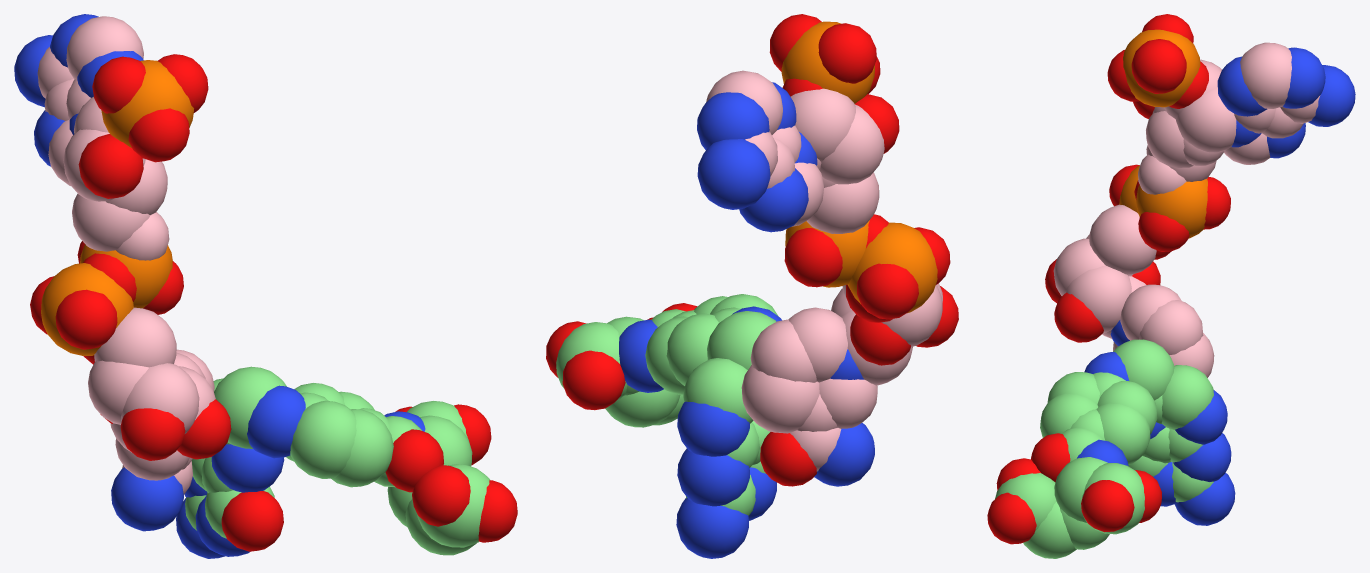
Rendered from Folate+NADPH.dae.
3 renders of one model, left to right at view 1: azimuth 30°, elevation 25°; view 2: azimuth 150°, elevation 25°; view 3: azimuth 270°, elevation 25°, orthographic. The views are drawn at different scales.
Parts seen in each view (by area): view 1: subnode_16, subnode_72, subnode_59, subnode_55, subnode_40, subnode_76, subnode_62, subnode_13, subnode_5, subnode_57, subnode_15, subnode_12 (+37 smaller); view 2: subnode_49, subnode_73, subnode_55, subnode_2, subnode_0, subnode_41, subnode_10, subnode_39, subnode_30, subnode_50, subnode_36, subnode_75 (+38 smaller); view 3: subnode_59, subnode_51, subnode_43, subnode_64, subnode_32, subnode_9, subnode_77, subnode_74, subnode_76, subnode_12, subnode_31, subnode_19 (+47 smaller).
Boxes of the visible parts, x1=… form: subnode_16: x1=290, y1=400, x2=356, y2=478; subnode_72: x1=111, y1=467, x2=183, y2=531; subnode_59: x1=94, y1=307, x2=176, y2=367; subnode_55: x1=41, y1=263, x2=133, y2=355; subnode_40: x1=78, y1=134, x2=143, y2=198; subnode_76: x1=101, y1=60, x2=193, y2=147; subnode_62: x1=121, y1=363, x2=199, y2=433; subnode_13: x1=247, y1=385, x2=305, y2=458; subnode_5: x1=221, y1=491, x2=283, y2=551; subnode_57: x1=55, y1=289, x2=117, y2=349; subnode_15: x1=331, y1=409, x2=393, y2=487; subnode_12: x1=214, y1=366, x2=286, y2=448; subnode_49: x1=697, y1=139, x2=770, y2=209; subnode_73: x1=741, y1=365, x2=819, y2=433; subnode_55: x1=847, y1=222, x2=937, y2=313; subnode_2: x1=676, y1=498, x2=748, y2=558; subnode_0: x1=677, y1=448, x2=749, y2=506; subnode_41: x1=790, y1=88, x2=855, y2=161; subnode_10: x1=677, y1=401, x2=749, y2=456; subnode_39: x1=820, y1=104, x2=884, y2=184; subnode_30: x1=562, y1=350, x2=625, y2=410; subnode_50: x1=697, y1=92, x2=769, y2=149; subnode_36: x1=806, y1=172, x2=879, y2=233; subnode_75: x1=789, y1=307, x2=847, y2=382; subnode_59: x1=1089, y1=204, x2=1156, y2=274; subnode_51: x1=1240, y1=42, x2=1291, y2=108; subnode_43: x1=1176, y1=88, x2=1236, y2=152; subnode_64: x1=1065, y1=265, x2=1131, y2=333; subnode_32: x1=1136, y1=178, x2=1207, y2=238; subnode_9: x1=1162, y1=365, x2=1213, y2=429; subnode_77: x1=1131, y1=39, x2=1186, y2=93; subnode_74: x1=1139, y1=300, x2=1203, y2=354; subnode_76: x1=1123, y1=29, x2=1200, y2=107; subnode_12: x1=1113, y1=339, x2=1174, y2=400; subnode_31: x1=1081, y1=480, x2=1134, y2=532; subnode_19: x1=1096, y1=403, x2=1150, y2=465.
Size of the model in its own units: 21.2 by 26.56 by 19.24.
